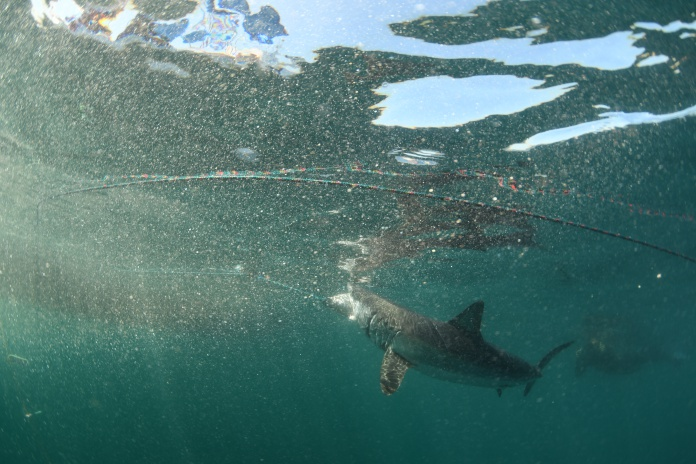Mako: (320, 279, 577, 420)
